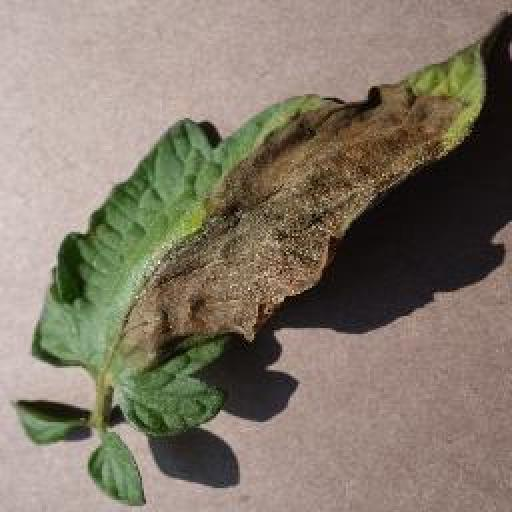disease_tomato: (29, 36, 488, 441)
